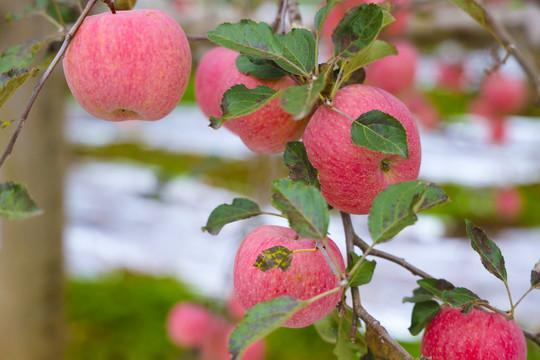apple: (297, 85, 422, 214), (60, 6, 191, 122), (195, 39, 318, 159), (233, 223, 347, 328), (421, 307, 525, 360)
